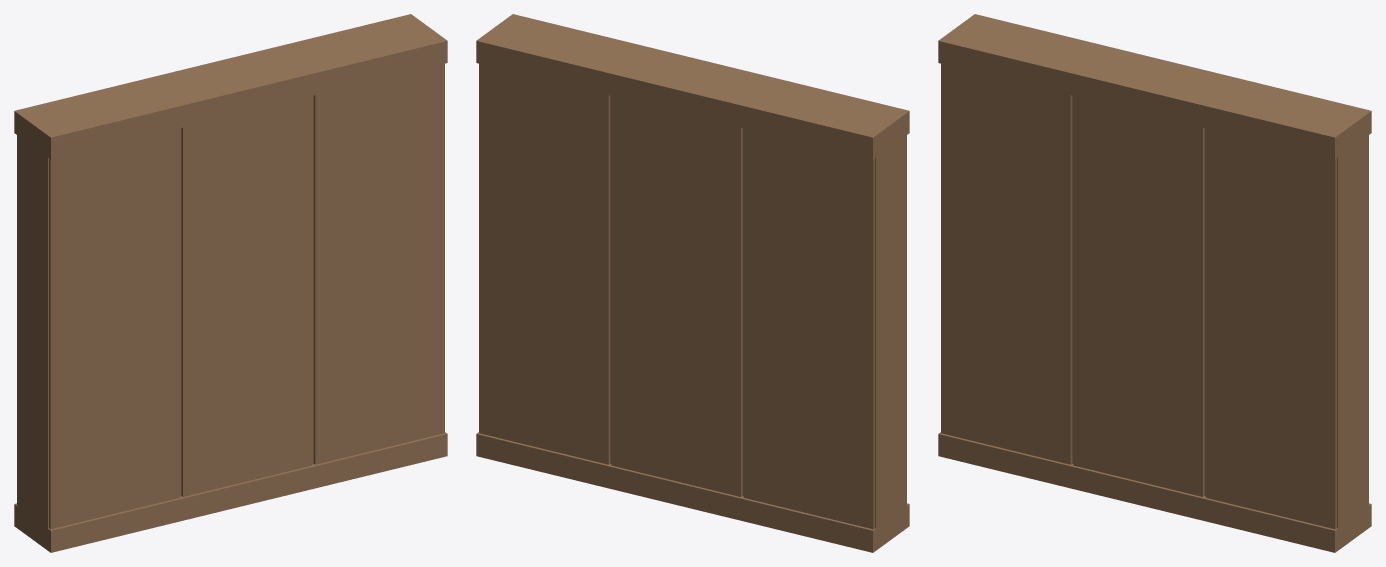
Rendered from BD_wall.fbx.
The picture shows the model from 3 angles, left to right: view 1: azimuth 30°, elevation 25°; view 2: azimuth 150°, elevation 25°; view 3: azimuth 330°, elevation 25°; orthographic projection.
Parts seen in each view (by area): view 1: BD_wall.001; view 2: BD_wall.001; view 3: BD_wall.001.
Boxes of the visible parts, x1,y1,x2,y2 form: BD_wall.001: (14,14,447,552); BD_wall.001: (476,14,909,552); BD_wall.001: (938,14,1371,552).
Size of the model in its own units: 3 by 3 by 0.48.
